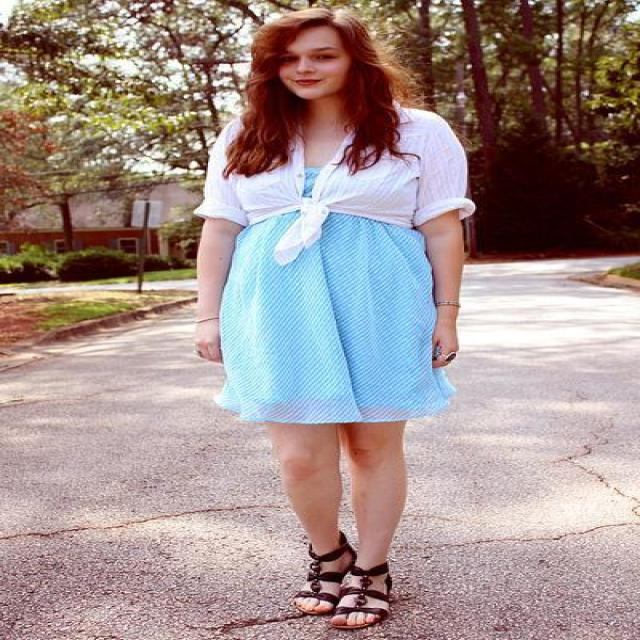dress: (219, 185, 453, 422)
shirt: (194, 100, 475, 227)
shoe: (294, 562, 416, 629)
